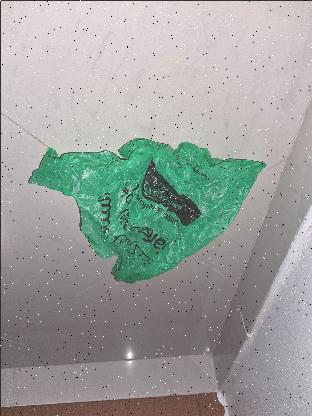Others: (28, 135, 266, 279)
